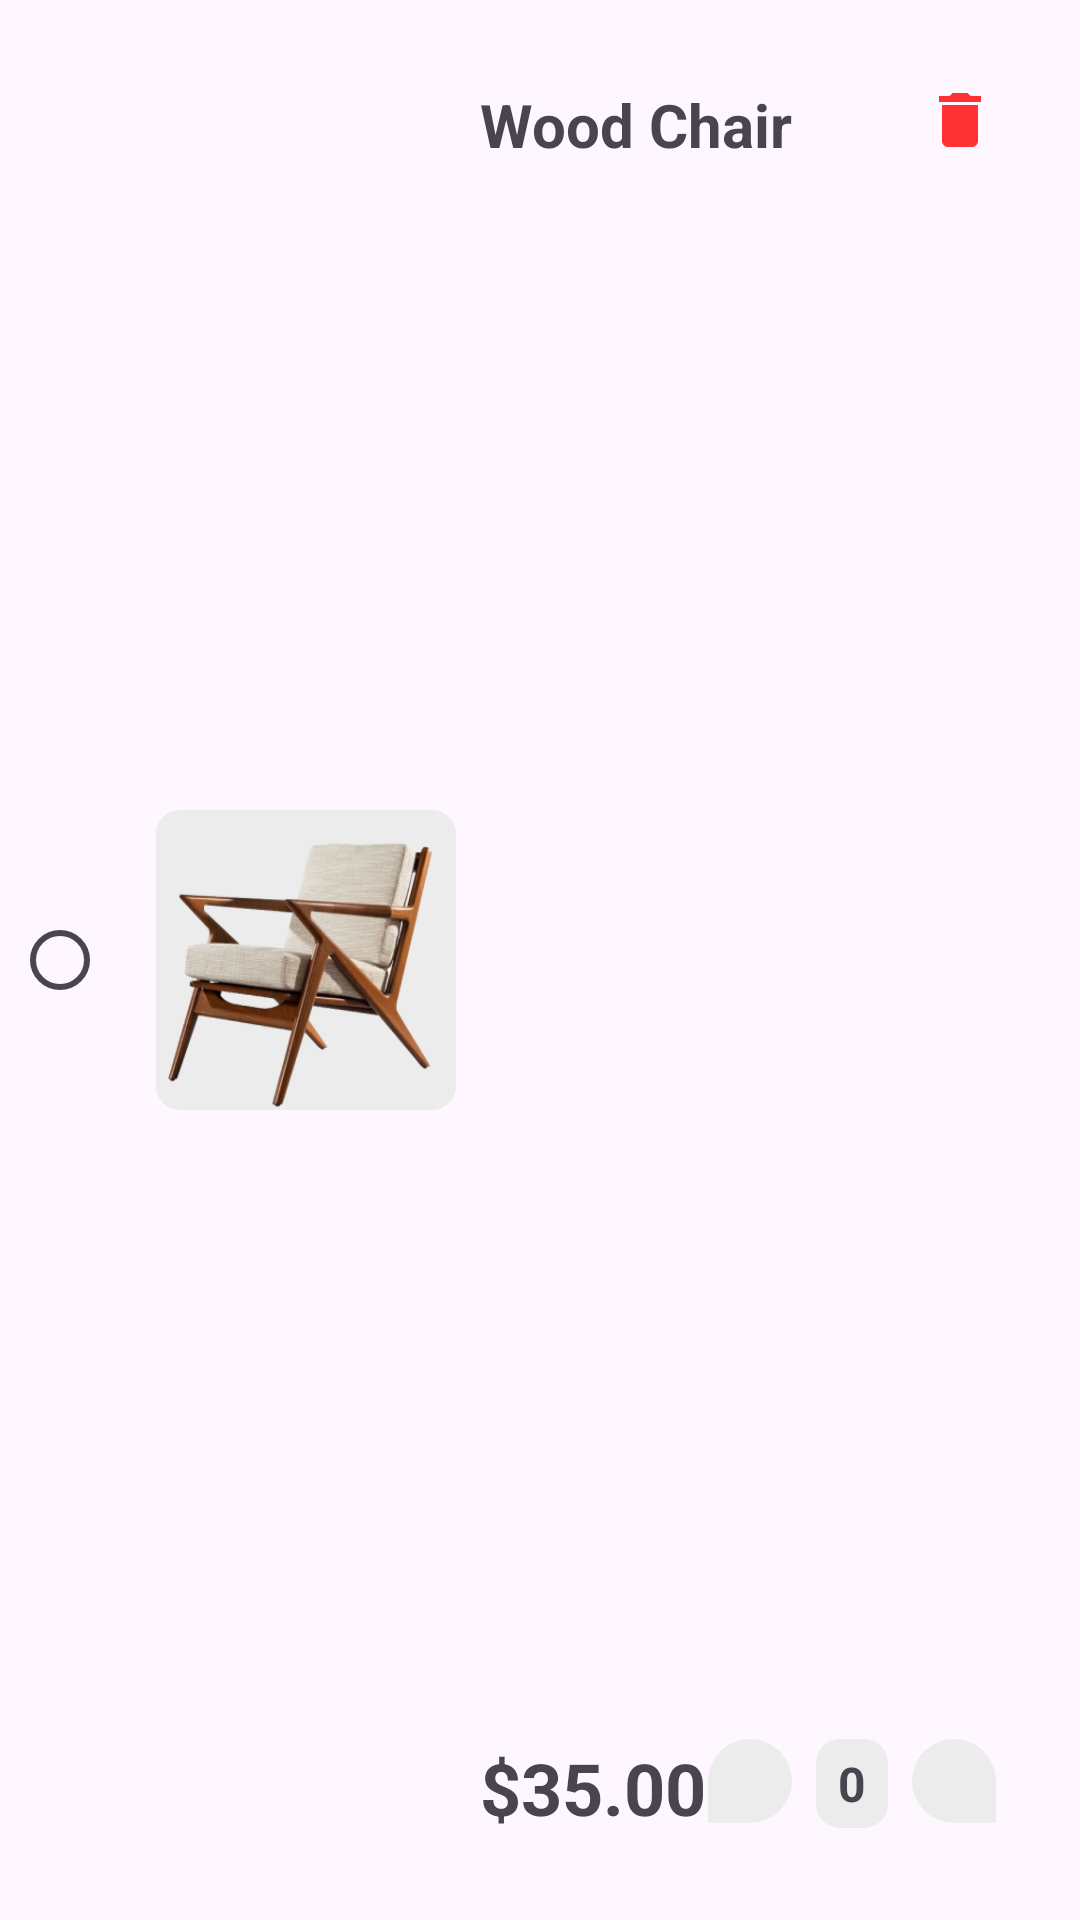

Where icons sit on this 1080x1920 app screen, as region(x1, y1, x2, y2):
delete: region(939, 93, 981, 147)
wood chair: region(156, 810, 456, 1110)
